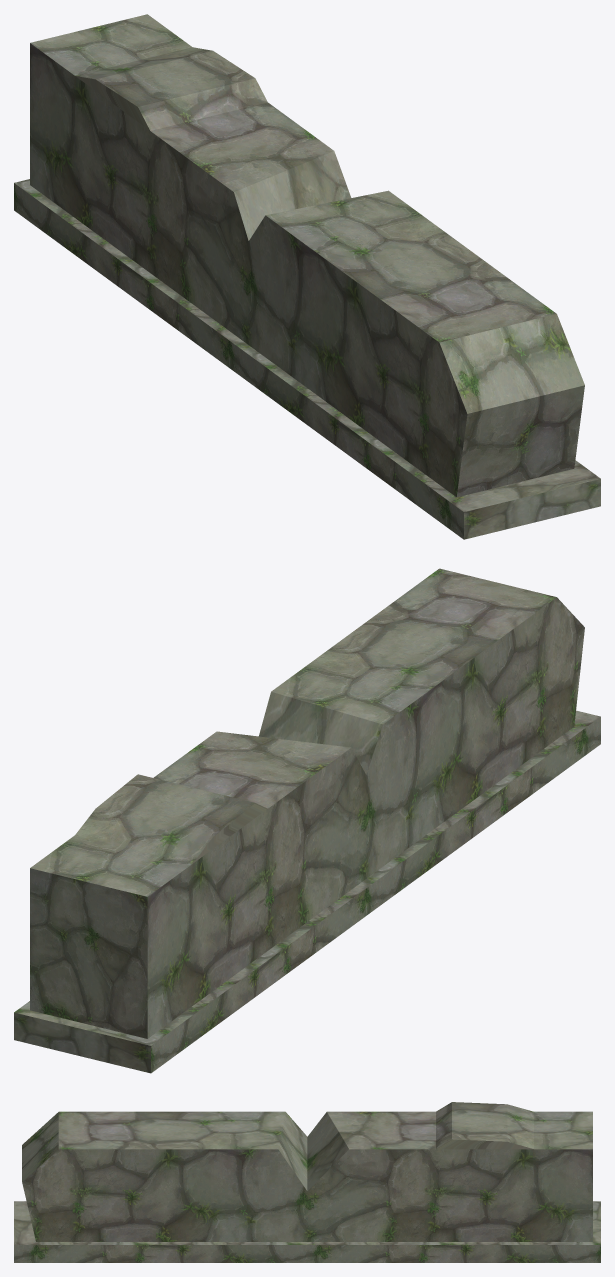
The model's file is Wall_03.glb.
3 renders of one model, top to bottom at view 1: azimuth 30°, elevation 25°; view 2: azimuth 150°, elevation 25°; view 3: azimuth 270°, elevation 25°, orthographic. The views are drawn at different scales.
Visible parts, largest first — view 1: Wall_03; view 2: Wall_03; view 3: Wall_03.
Boxes of the visible parts, x1,y1,x2,y2 form: Wall_03: (14, 14, 600, 539); Wall_03: (14, 568, 600, 1073); Wall_03: (14, 1102, 600, 1262).
Size of what is drawn, in the model's own units: 2.33 by 3 by 13.25.
1 material, 1 textured.
